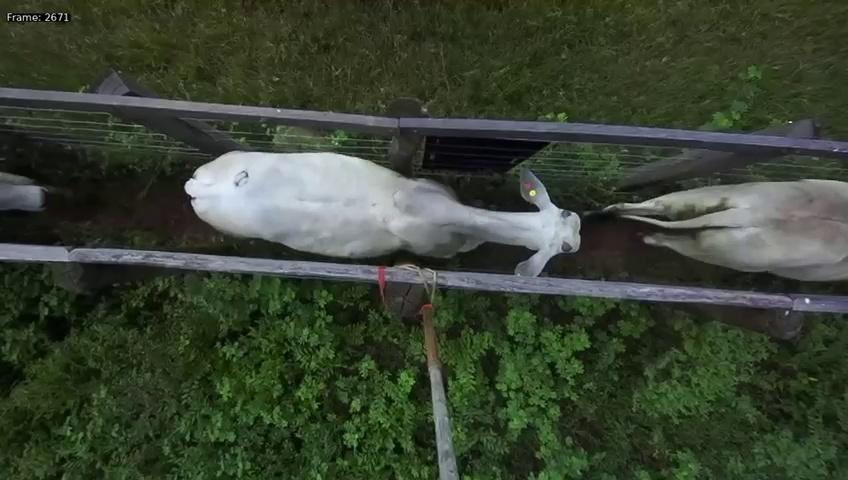cattle: (176, 127, 582, 275)
